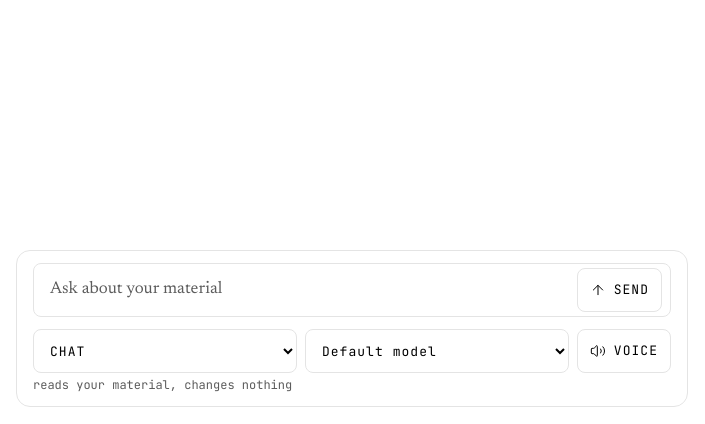
Test case: the agent dock › replaces the message it drew with the one the server started
The width and height of the screenshot is (705, 424).
In the text box labelled "Ask about your material": {"x": 305, "y": 290} [42, 268, 569, 312], type "what is a ring?"
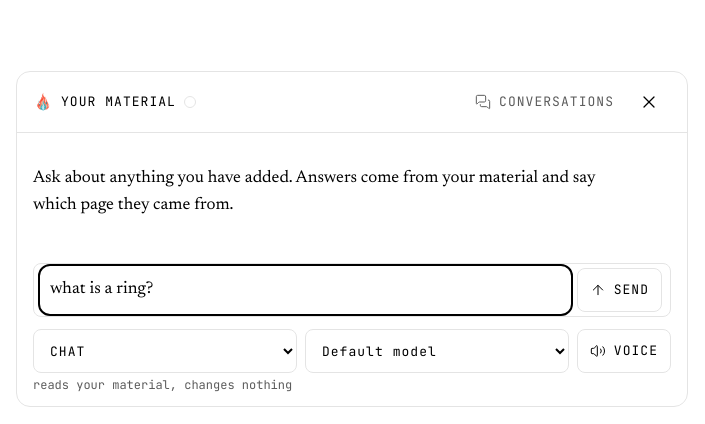
Click the button "Send": {"x": 619, "y": 290} [577, 268, 662, 312]
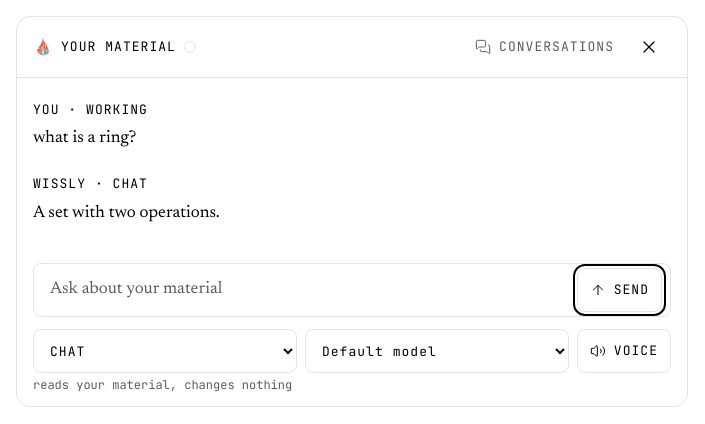
Expected: the text "what is a ring?" is shown once, [33, 130, 136, 147]
